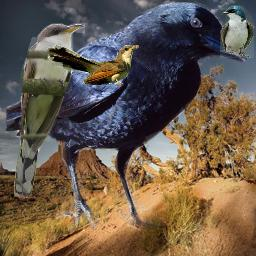Crow: (6, 2, 248, 235)
Cuckoo: (14, 23, 85, 198), (47, 45, 139, 86)
Swallow: (220, 5, 254, 58)
